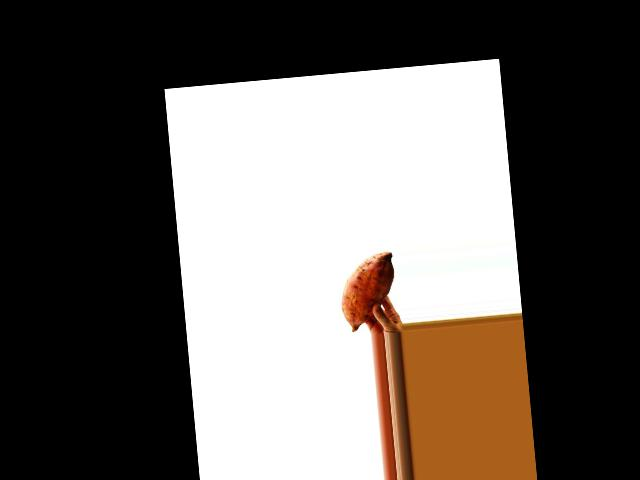sweet_potato: (332, 249, 401, 330)
